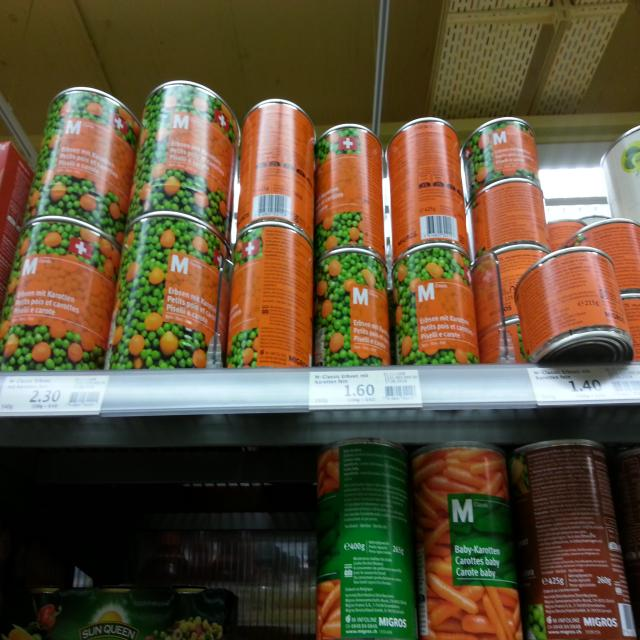Canned: (511, 429, 640, 640), (406, 435, 525, 640), (311, 434, 419, 640), (19, 80, 145, 247), (102, 203, 231, 365), (0, 208, 123, 376), (125, 80, 241, 246), (513, 247, 633, 361), (227, 218, 314, 368), (233, 100, 318, 248), (386, 116, 471, 264), (391, 233, 483, 365), (315, 118, 389, 263), (315, 245, 388, 365), (457, 113, 545, 200), (468, 176, 552, 253)
